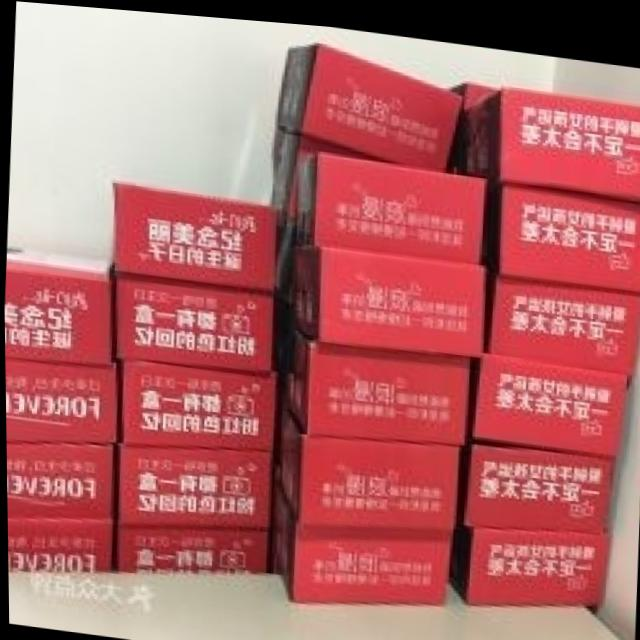box: (275, 223, 486, 351), (274, 311, 470, 438), (274, 37, 460, 167), (272, 398, 459, 524), (267, 475, 452, 598), (294, 145, 487, 257), (456, 78, 640, 194), (114, 181, 276, 291), (466, 344, 629, 449), (482, 259, 640, 366), (483, 175, 640, 280), (454, 427, 621, 525), (116, 270, 274, 369), (116, 356, 274, 447), (116, 439, 271, 525), (447, 514, 611, 595), (270, 121, 387, 231), (4, 257, 116, 364), (4, 355, 116, 440), (5, 440, 116, 516), (111, 524, 269, 568), (6, 515, 116, 571), (447, 75, 501, 106)
